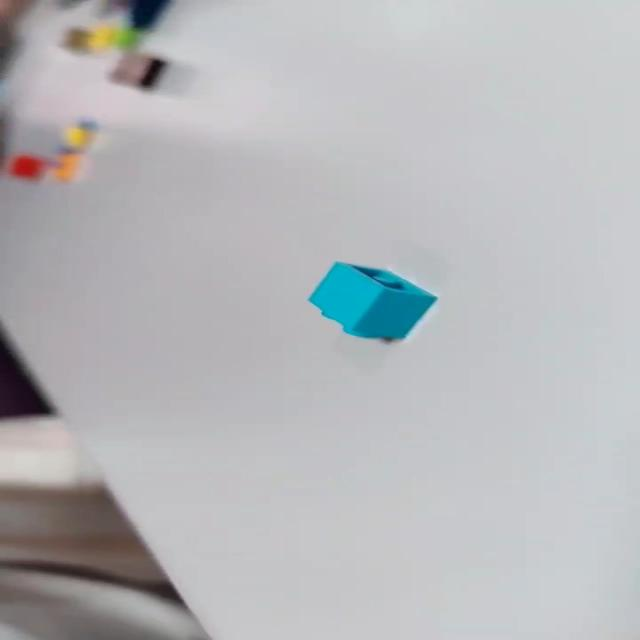C2x1x1: (306, 259, 438, 343)
